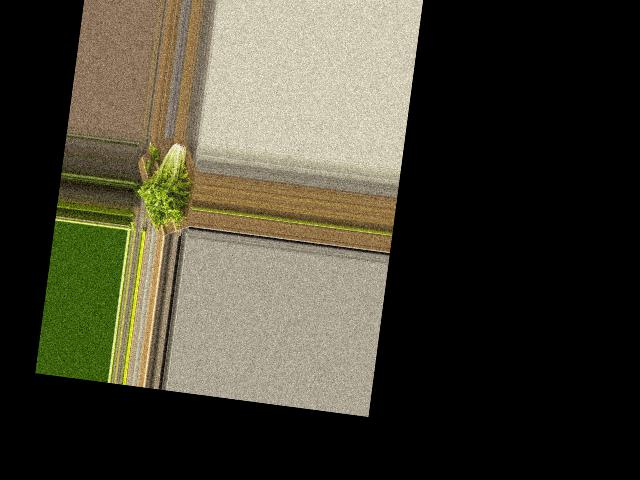lettuce: (134, 134, 197, 229)
